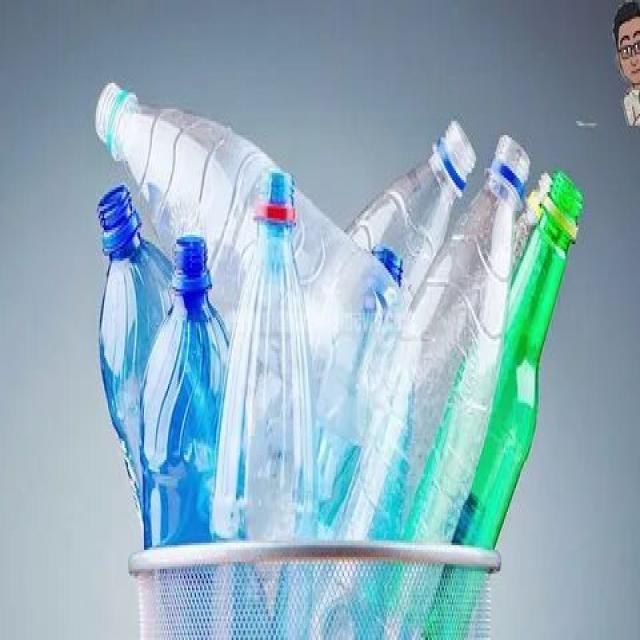blue: (212, 169, 319, 542)
green: (450, 168, 585, 550)
